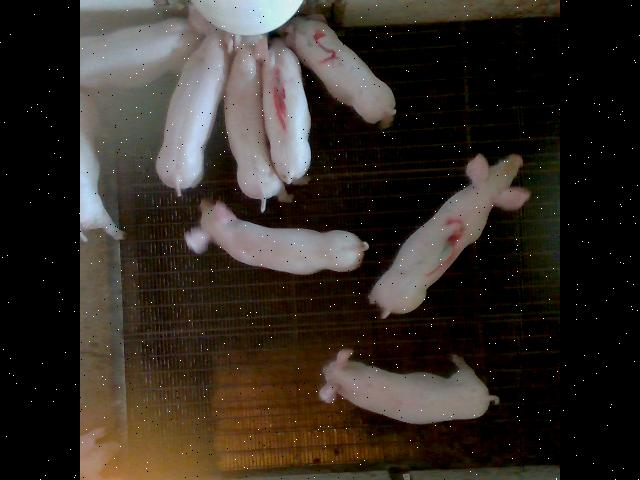pig-1: (262, 39, 311, 182)
pig-3: (369, 154, 530, 318)
pig-5: (281, 16, 396, 126)
